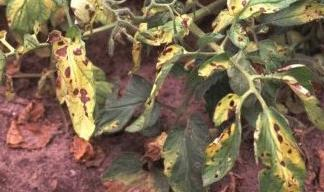Tomato Early blight leaf: (202, 0, 321, 40), (198, 94, 252, 182), (247, 104, 300, 192), (54, 31, 93, 136), (128, 47, 182, 119)
